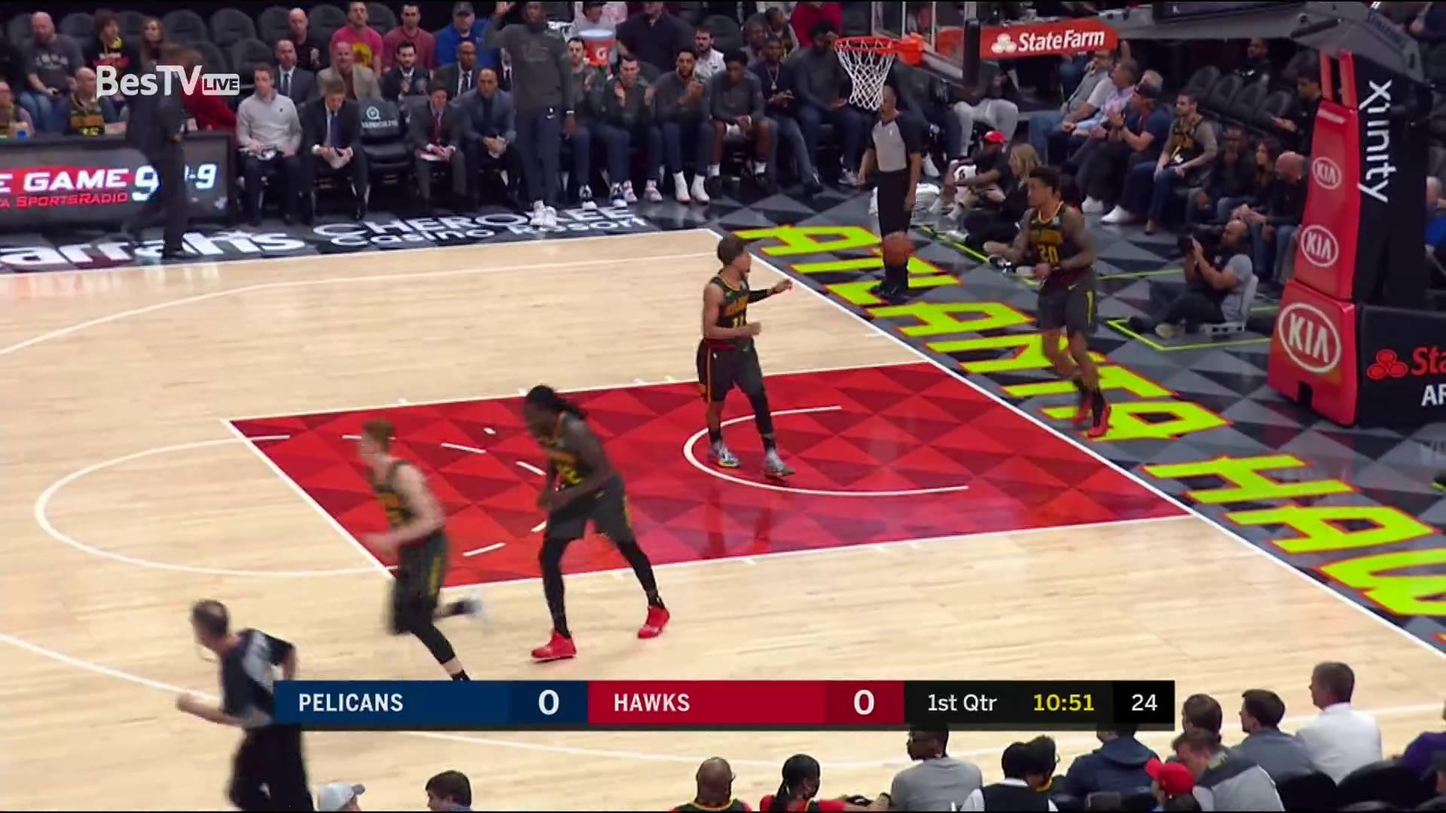basketball: (876, 227, 916, 265)
